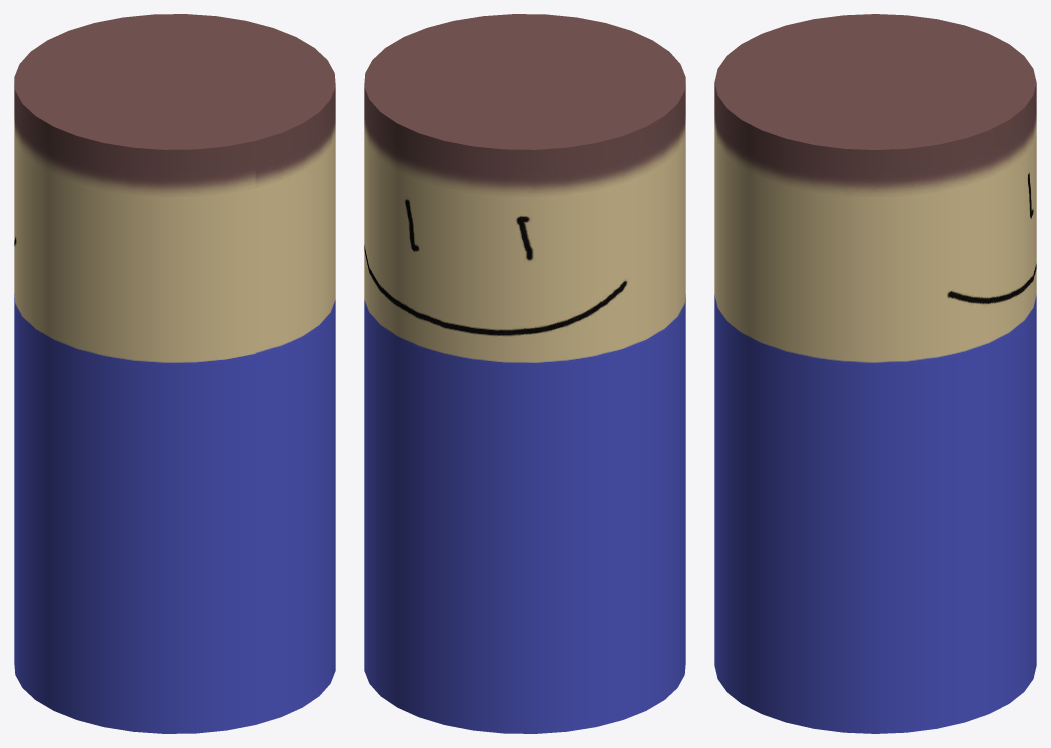
The model's file is testchar.obj.
3 views of the same model, side by side, from view 1: azimuth 30°, elevation 25°; view 2: azimuth 150°, elevation 25°; view 3: azimuth 270°, elevation 25° (orthographic).
Visible parts, largest first — view 1: Cylinder_Cylinder.002; view 2: Cylinder_Cylinder.002; view 3: Cylinder_Cylinder.002.
Part boxes in pixels (left/top/right/bottom): Cylinder_Cylinder.002: left=14, top=14, right=335, bottom=733; Cylinder_Cylinder.002: left=364, top=14, right=685, bottom=733; Cylinder_Cylinder.002: left=714, top=14, right=1036, bottom=733.
Bounding box in the file's own units: 1 × 2 × 1.
